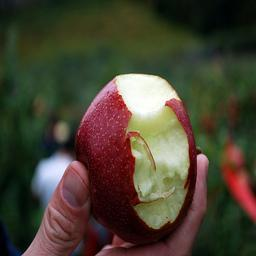apple: (71, 73, 193, 243)
